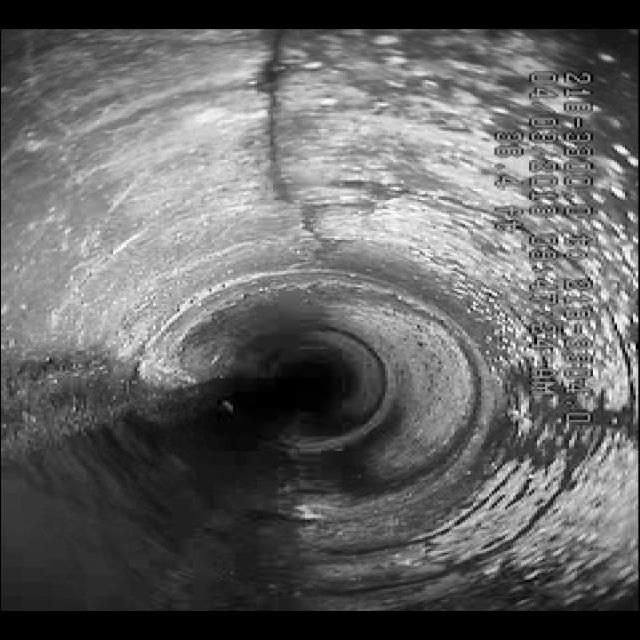Crack: (227, 38, 361, 264)
